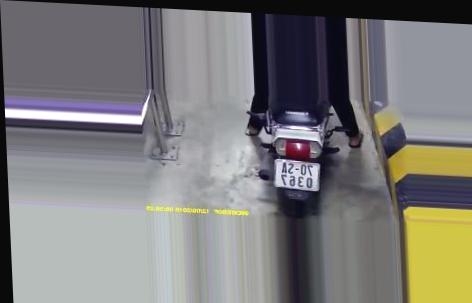License_Plate: (268, 158, 323, 194)
